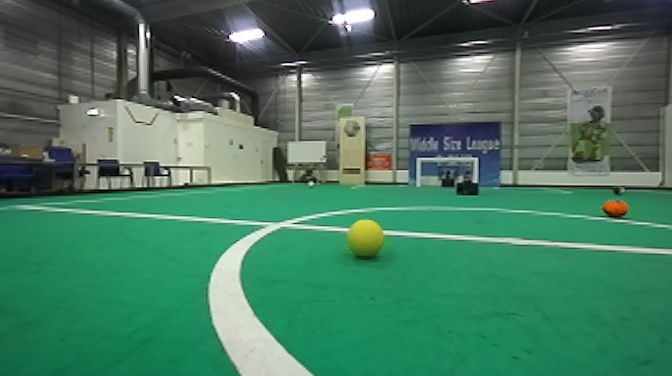ball: (342, 214, 387, 258), (600, 197, 630, 219), (611, 183, 627, 195), (307, 180, 315, 189)
goal: (415, 157, 480, 188)
robot: (454, 167, 481, 197), (436, 163, 460, 187)
